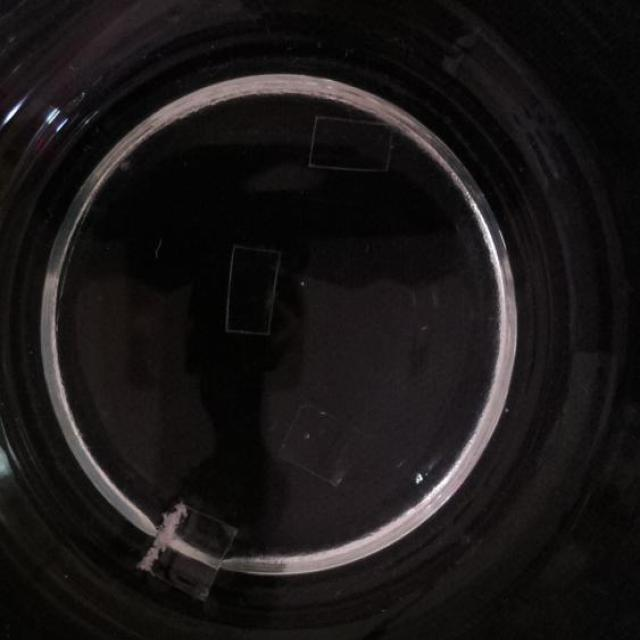fiber: (139, 501, 239, 597), (277, 405, 351, 483), (307, 116, 395, 176), (223, 239, 279, 332), (442, 24, 476, 82), (415, 469, 424, 486)
